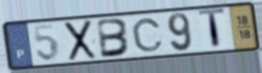5: (32, 24, 62, 63)
9: (167, 11, 196, 53)
B: (96, 17, 133, 60)
C: (130, 17, 165, 53)
T: (196, 7, 227, 51)
X: (63, 19, 98, 63)
